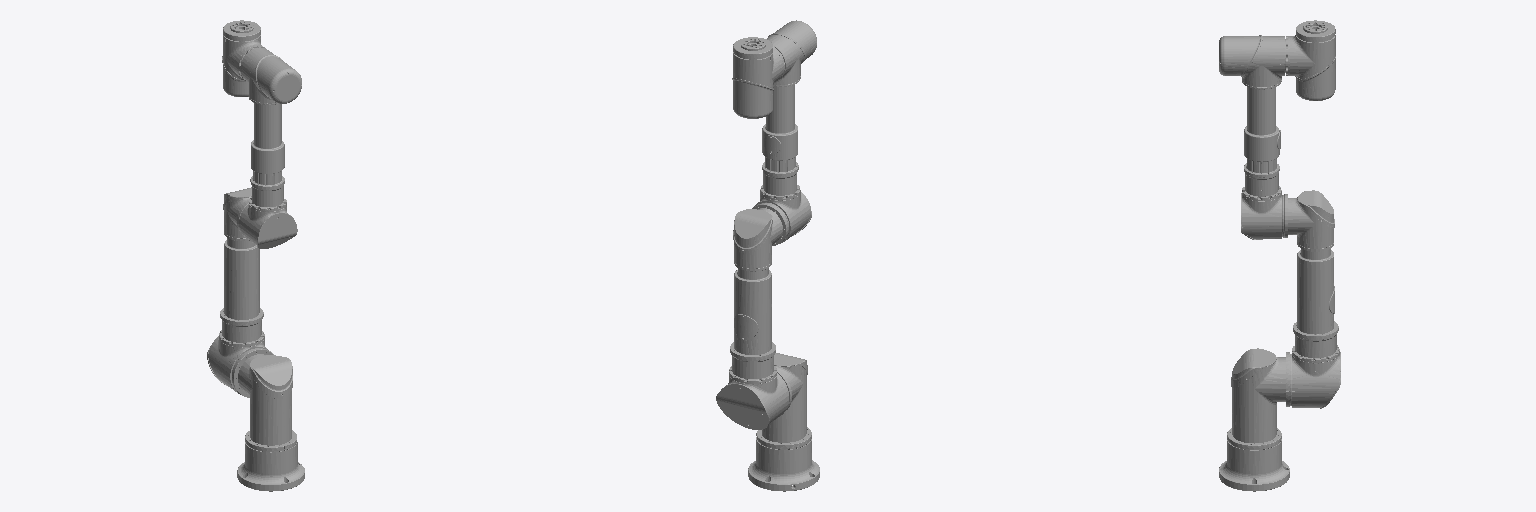
The robot description file, URDF, robot "DianaS1":
<?xml version="1.0" encoding="utf-8"?>
<!-- =================================================================================== -->
<!-- |    This document was autogenerated by xacro from DianaS1_robot.urdf.xacro       | -->
<!-- |    EDITING THIS FILE BY HAND IS NOT RECOMMENDED                                 | -->
<!-- =================================================================================== -->
<robot name="DianaS1">
  <link name="base_link">
    <inertial>
      <origin rpy="0 0 0" xyz="-0.00025974 -0.00026507 0.024973"/>
      <mass value="1.61"/>
      <inertia ixx="0.0042468" ixy="2.2962E-05" ixz="-7.5575E-06" iyy="0.004245" iyz="-7.4546E-06" izz="0.0072668"/>
    </inertial>
    <visual>
      <origin rpy="0 0 0" yz="0 0 0"/>
      <geometry>
        <mesh filename="package://dianaS1_description/meshes/base_link.STL"/>
      </geometry>
      <material name="LightGrey">
        <color rgba="0.7 0.7 0.7 1"/>
      </material>
    </visual>
    <collision>
      <origin rpy="0 0 0" xyz="0 0 0"/>
      <geometry>
        <mesh filename="package://dianaS1_description/meshes/base_link.STL"/>
      </geometry>
    </collision>
  </link>
  <joint name="joint1" type="revolute">
    <origin rpy="3.14159265359 0 0" xyz="0 0 0.2723"/>
    <parent link="base_link"/>
    <child link="link1"/>
    <axis xyz="0 0 1"/>
    <limit effort="235.0" lower="-3.12413936107" upper="3.12413936107" velocity="3.14159265359"/>
    <dynamics damping="0.0" friction="0.0"/>
  </joint>
  <link name="link1">
    <inertial>
      <origin rpy="0 0 0" xyz="-0.000108043 -0.044600027 0.068607373"/>
      <mass value="6.67548"/>
      <inertia ixx="0.113166041" ixy="-0.00000662439" ixz="0.0000384752" iyy="0.085738172" iyz="-0.0000471067" izz="0.04163282"/>
    </inertial>
    <visual>
      <origin rpy="0 0 0" xyz="0 0 0"/>
      <geometry>
        <mesh filename="package://dianaS1_description/meshes/link1.STL"/>
      </geometry>
      <material name="LightGrey">
        <color rgba="0.7 0.7 0.7 1"/>
      </material>
    </visual>
    <collision>
      <origin rpy="0 0 0" xyz="0 0 0"/>
      <geometry>
        <mesh filename="package://dianaS1_description/meshes/link1.STL"/>
      </geometry>
    </collision>
  </link>
  <joint name="joint2" type="revolute">
    <origin rpy="-1.57079632679 0 0" xyz="0 -0.156 0"/>
    <parent link="link1"/>
    <child link="link2"/>
    <axis xyz="0 0 1"/>
    <limit effort="235.0" lower="-2.79252680319" upper="2.79252680319" velocity="3.14159265359"/>
    <dynamics damping="0.0" friction="0.0"/>
  </joint>
  <link name="link2">
    <inertial>
      <origin rpy="0 0 0" xyz="0.00000875698 0.047132796 0.006996823"/>
      <mass value="3.11643"/>
      <inertia ixx="0.021414698" ixy="-0.0000012365" ixz="0.00000085133" iyy="0.006006288" iyz="0.000151513" izz="0.022441273"/>
    </inertial>
    <visual>
      <origin rpy="0 0 0" xyz="0 0 0"/>
      <geometry>
        <mesh filename="package://dianaS1_description/meshes/link2.STL"/>
      </geometry>
      <material name="LightGrey">
        <color rgba="0.7 0.7 0.7 1"/>
      </material>
    </visual>
    <collision>
      <origin rpy="0 0 0" xyz="0 0 0"/>
      <geometry>
        <mesh filename="package://dianaS1_description/meshes/link2.STL"/>
      </geometry>
    </collision>
  </link>
  <joint name="joint3" type="revolute">
    <origin rpy="1.57079632679 0 0" xyz="0 0.4577 0"/>
    <parent link="link2"/>
    <child link="link3"/>
    <axis xyz="0 0 1"/>
    <limit effort="111.0" lower="-3.12413936107" upper="3.12413936107" velocity="3.14159265359"/>
    <dynamics damping="0.0" friction="0.0"/>
  </joint>
  <link name="link3">
    <inertial>
      <origin rpy="0 0 0" xyz="0.0000183253 0.03187396 0.136688085"/>
      <mass value="4.62614"/>
      <inertia ixx="0.198692057" ixy="0.00000537943" ixz="0.0000108296" iyy="0.187330776" iyz="-0.00026749" izz="0.018225492"/>
    </inertial>
    <visual>
      <origin rpy="0 0 0" xyz="0 0 0"/>
      <geometry>
        <mesh filename="package://dianaS1_description/meshes/link3.STL"/>
      </geometry>
      <material name="LightGrey">
        <color rgba="0.7 0.7 0.7 1"/>
      </material>
    </visual>
    <collision>
      <origin rpy="0 0 0" xyz="0 0 0"/>
      <geometry>
        <mesh filename="package://dianaS1_description/meshes/link3.STL"/>
      </geometry>
    </collision>
  </link>
  <joint name="joint4" type="revolute">
    <origin rpy="1.57079632679 0 0" xyz="0 0.1371 0"/>
    <parent link="link3"/>
    <child link="link4"/>
    <axis xyz="0 0 1"/>
    <limit effort="111.0" lower="-2.79252680319" upper="2.79252680319" velocity="3.14159265359"/>
    <dynamics damping="0.0" friction="0.0"/>
  </joint>
  <link name="link4">
    <inertial>
      <origin rpy="0 0 0" xyz="-0.0000171058 -0.048491536 0.007150206"/>
      <mass value="1.9961"/>
      <inertia ixx="0.012642755" ixy="-0.00000163658" ixz="0.00000012834" iyy="0.002906848" iyz="-0.0000516913" izz="0.012740515"/>
    </inertial>
    <visual>
      <origin rpy="0 0 0" xyz="0 0 0"/>
      <geometry>
        <mesh filename="package://dianaS1_description/meshes/link4.STL"/>
      </geometry>
      <material name="LightGrey">
        <color rgba="0.7 0.7 0.7 1"/>
      </material>
    </visual>
    <collision>
      <origin rpy="0 0 0" xyz="0 0 0"/>
      <geometry>
        <mesh filename="package://dianaS1_description/meshes/link4.STL"/>
      </geometry>
    </collision>
  </link>
  <joint name="joint5" type="revolute">
    <origin rpy="-1.57079632679 0 0" xyz="0 -0.449 0"/>
    <parent link="link4"/>
    <child link="link5"/>
    <axis xyz="0 0 1"/>
    <limit effort="90.0" lower="-3.12413936107" upper="3.12413936107" velocity="3.14159265359"/>
    <dynamics damping="0.0" friction="0.0"/>
  </joint>
  <link name="link5">
    <inertial>
      <origin rpy="0 0 0" xyz="-0.000027456 -0.002120073 0.13041583"/>
      <mass value="3.40632"/>
      <inertia ixx="0.129484072" ixy="0.00000023257" ixz="0.00000830368" iyy="0.128743236" iyz="-0.0000756544" izz="0.004813837"/>
    </inertial>
    <visual>
      <origin rpy="0 0 0" xyz="0 0 0"/>
      <geometry>
        <mesh filename="package://dianaS1_description/meshes/link5.STL"/>
      </geometry>
      <material name="LightGrey">
        <color rgba="0.7 0.7 0.7 1"/>
      </material>
    </visual>
    <collision>
      <origin rpy="0 0 0" xyz="0 0 0"/>
      <geometry>
        <mesh filename="package://dianaS1_description/meshes/link5.STL"/>
      </geometry>
    </collision>
  </link>
  <joint name="joint6" type="revolute">
    <origin rpy="-1.57079632679 0 0" xyz="0 -0.1365 0"/>
    <parent link="link5"/>
    <child link="link6"/>
    <axis xyz="0 0 1"/>
    <limit effort="90.0" lower="-3.12413936107" upper="3.12413936107" velocity="3.14159265359"/>
    <dynamics damping="0.0" friction="0.0"/>
  </joint>
  <link name="link6">
    <inertial>
      <origin rpy="0 0 0" xyz="0.0000262506 0.003206123 0.027090603"/>
      <mass value="2.31124"/>
      <inertia ixx="0.008348207" ixy="-0.00000063196" ixz="-0.0000036489" iyy="0.007600004" iyz="0.0000308886" izz="0.003426032"/>
    </inertial>
    <visual>
      <origin rpy="0 0 0" xyz="0 0 0"/>
      <geometry>
        <mesh filename="package://dianaS1_description/meshes/link6.STL"/>
      </geometry>
      <material name="LightGrey">
        <color rgba="0.7 0.7 0.7 1"/>
      </material>
    </visual>
    <collision>
      <origin rpy="0 0 0" xyz="0 0 0"/>
      <geometry>
        <mesh filename="package://dianaS1_description/meshes/link6.STL"/>
      </geometry>
    </collision>
  </link>
  <joint name="joint7" type="revolute">
    <origin rpy="1.57079632679 0 0" xyz="0 0.0825 0"/>
    <parent link="link6"/>
    <child link="link7"/>
    <axis xyz="0 0 1"/>
    <limit effort="90.0" lower="-3.12413936107" upper="3.12413936107" velocity="3.14159265359"/>
    <dynamics damping="0.0" friction="0.0"/>
  </joint>
  <link name="link7">
    <inertial>
      <origin rpy="0 0 0" xyz="0.0 0.0001 0.03405"/>
      <mass value="0.53497"/>
      <inertia ixx="0.001391424" ixy="-0.0000002188" ixz="0.00000014776" iyy="0.001391382" iyz="-0.00000139675" izz="0.000430176"/>
    </inertial>
    <visual>
      <origin rpy="0 0 0" xyz="0 0 0"/>
      <geometry>
        <mesh filename="package://dianaS1_description/meshes/link7.STL"/>
      </geometry>
      <material name="LightGrey">
        <color rgba="0.7 0.7 0.7 1"/>
      </material>
    </visual>
    <collision>
      <origin rpy="0 0 0" xyz="0 0 0"/>
      <geometry>
        <mesh filename="package://dianaS1_description/meshes/link7.STL"/>
      </geometry>
    </collision>
  </link>
  <link name="world"/>
  <joint name="world_joint" type="fixed">
    <parent link="world"/>
    <child link="base_link"/>
    <origin rpy="0.0 0.0 0.0" xyz="0.0 0.0 0.0"/>
  </joint>
</robot>

--- Render facts (derived) ---
Views: 3 orthographic renders of the robot side by side, from view 1: azimuth 30°, elevation 25°; view 2: azimuth 150°, elevation 25°; view 3: azimuth 270°, elevation 25°.
Robot: DianaS1 — 9 links, 8 joints (7 revolute, 1 fixed); root link world; default pose: every joint at zero.
Visible links, largest first — view 1: link5, link1, link3, base_link, link4, link2, link6, link7; view 2: link3, link5, link2, link1, base_link, link6, link4, link7; view 3: link3, link5, link1, link6, base_link, link2, link4, link7.
Boxes of the visible links, left/top/right/bottom form: link5: left=240, top=47, right=301, bottom=206; link1: left=232, top=348, right=296, bottom=451; link3: left=220, top=187, right=263, bottom=342; base_link: left=237, top=442, right=304, bottom=491; link4: left=239, top=197, right=297, bottom=248; link2: left=207, top=330, right=271, bottom=393; link6: left=222, top=35, right=264, bottom=96; link7: left=223, top=20, right=260, bottom=41; link3: left=730, top=203, right=787, bottom=378; link5: left=762, top=20, right=816, bottom=195; link2: left=716, top=366, right=788, bottom=429; link1: left=756, top=353, right=811, bottom=449; base_link: left=748, top=437, right=819, bottom=491; link6: left=732, top=46, right=784, bottom=118; link4: left=752, top=185, right=811, bottom=243; link7: left=733, top=37, right=772, bottom=59; link3: left=1284, top=190, right=1338, bottom=357; link5: left=1219, top=35, right=1284, bottom=196; link1: left=1227, top=348, right=1289, bottom=449; link6: left=1285, top=35, right=1335, bottom=100; base_link: left=1219, top=439, right=1289, bottom=491; link2: left=1290, top=345, right=1340, bottom=408; link4: left=1241, top=186, right=1283, bottom=239; link7: left=1296, top=20, right=1335, bottom=42.
Bounding box of the posed robot: 0.18 × 0.3098 × 1.26 m (x, y, z).
Meshes: 8 distinct files referenced, 8 mesh visuals loaded (8 binary STL).
